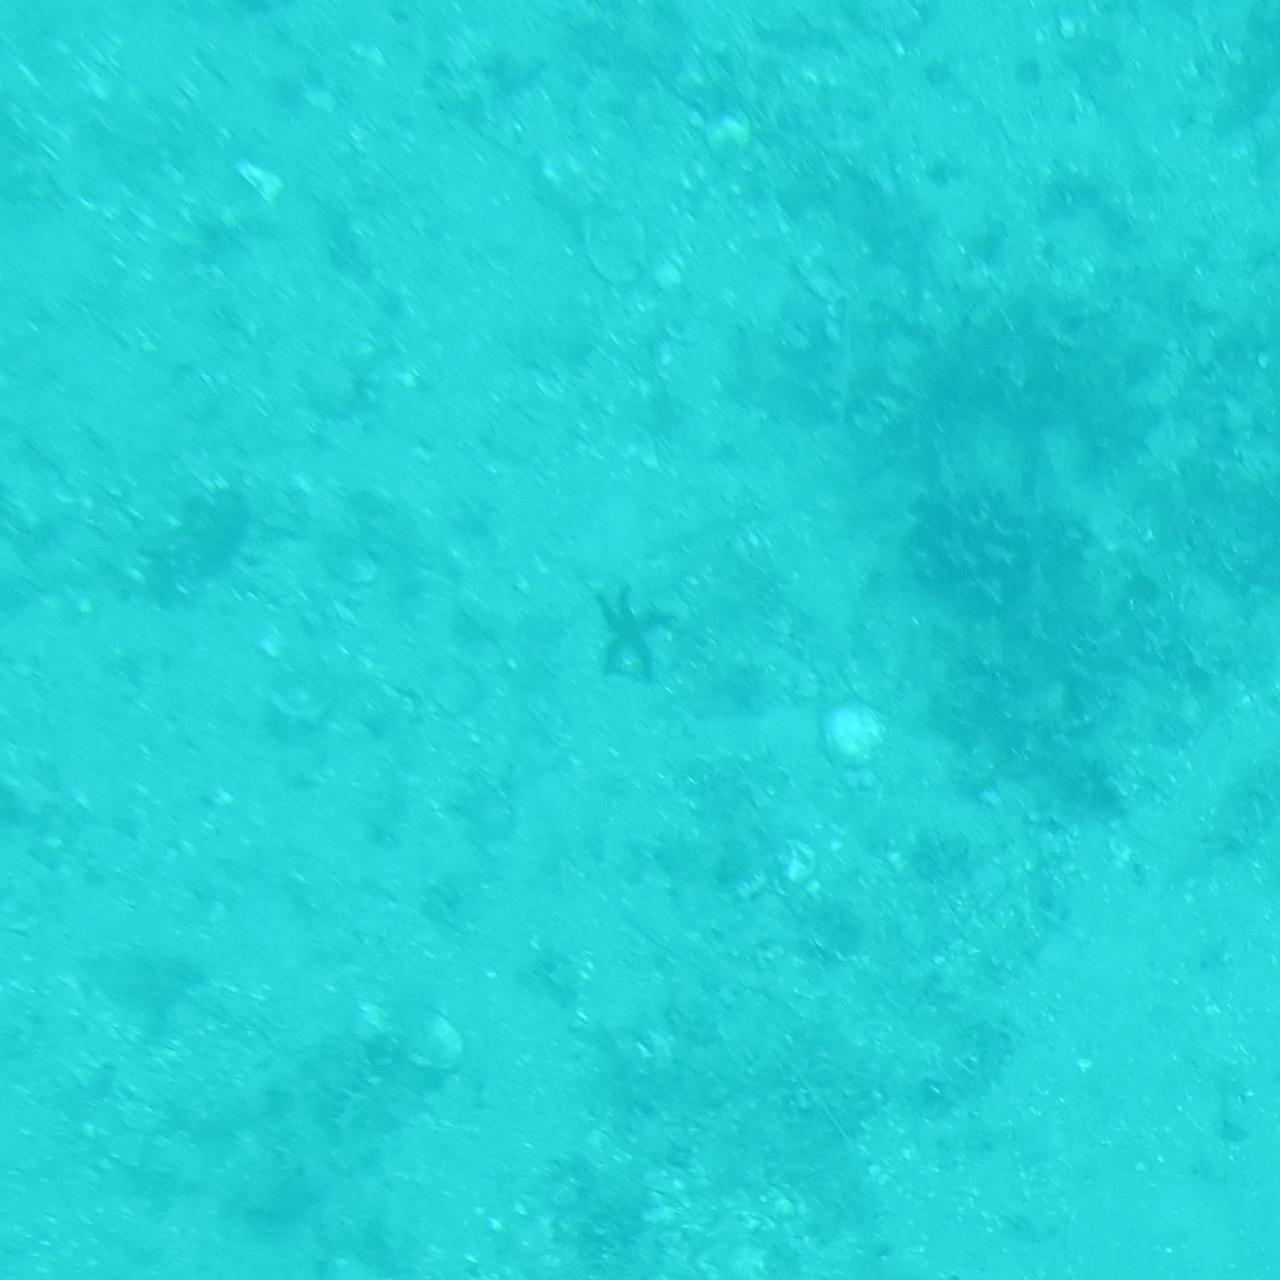Asteroidea: (577, 587, 703, 693)
